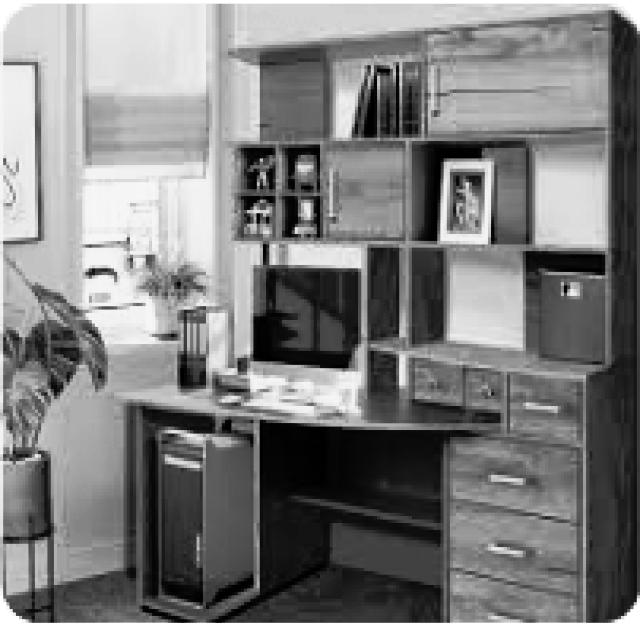table: (111, 378, 500, 620)
